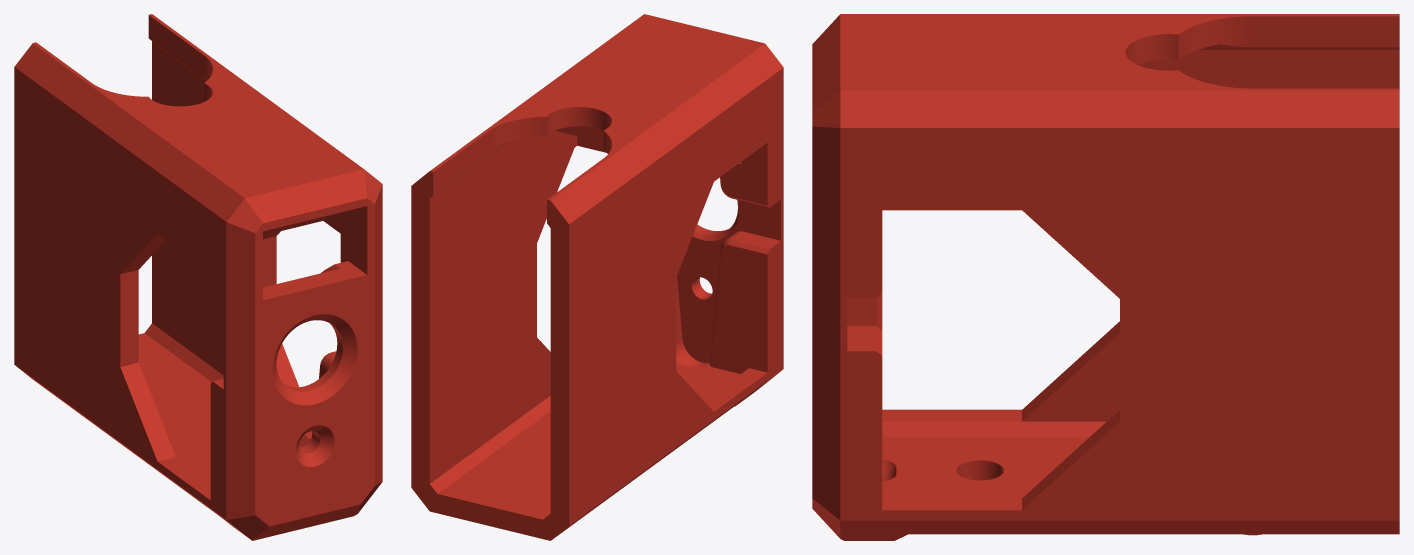
File: Right Leg.obj
The picture shows the model from 3 angles, left to right: view 1: azimuth 30°, elevation 25°; view 2: azimuth 150°, elevation 25°; view 3: azimuth 270°, elevation 25°; orthographic projection. The views are drawn at different scales.
Parts seen in each view (by area): view 1: Body1; view 2: Body1; view 3: Body1.
Part boxes in pixels (x1,y1,x2,y2): Body1: (14, 14, 382, 540); Body1: (411, 14, 783, 540); Body1: (812, 14, 1399, 540).
Size of the model in its own units: 17 by 37.5 by 42.
